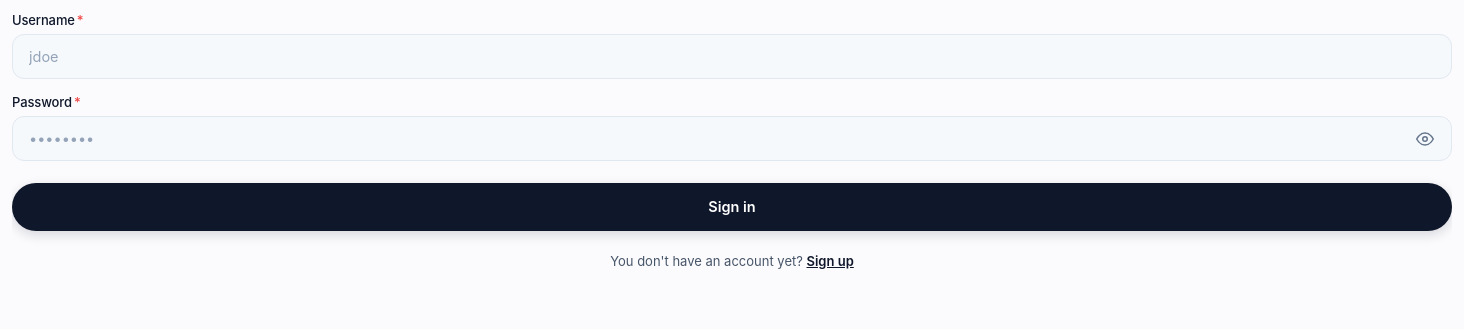
LoginForm — connexion › affiche les erreurs de validation et n’appelle pas le serveur si le formulaire est vide
The image size is (1464, 329).
What coordinates should you click on to do the following:
click the button "Sign in"
I would click on:
 (732, 207)
Its box is [12,183,1452,231].
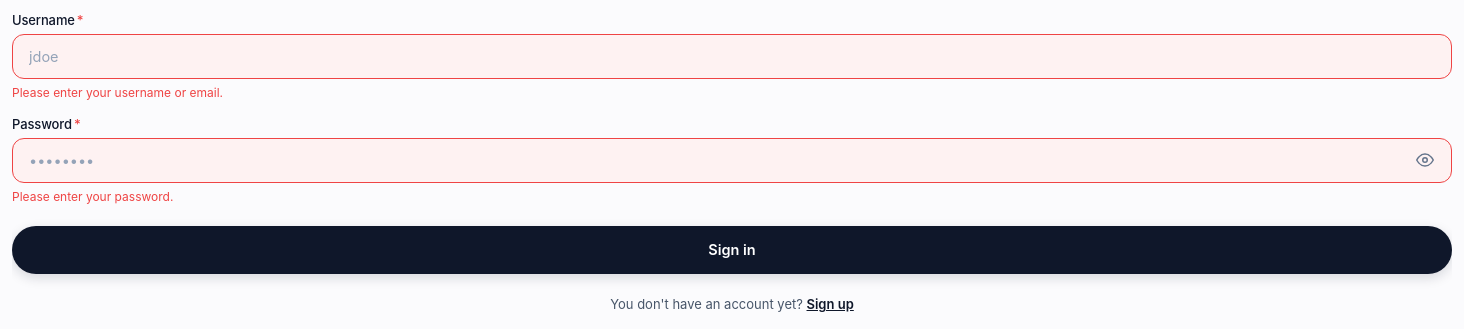
Now the text "Please enter your username or email." is shown, box [12,85,223,100]
Now the text "Please enter your password." is shown, box [12,189,173,204]
